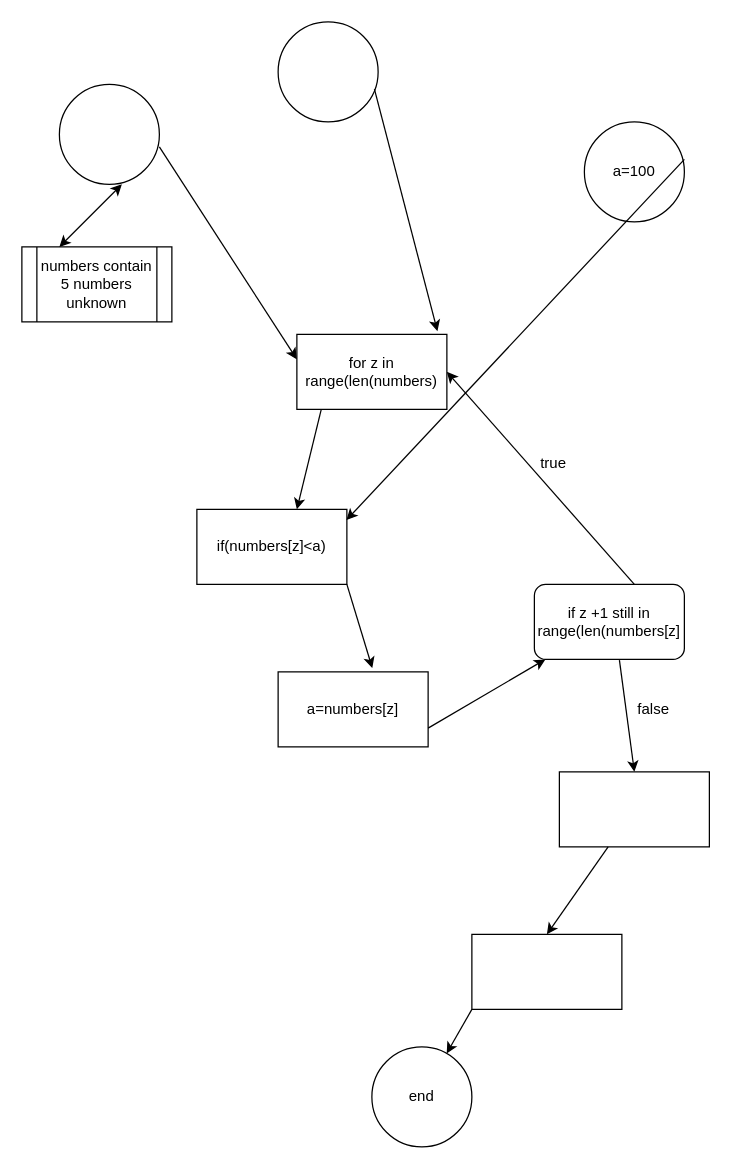
Image size: 731x1169. Some labels were removed from this diagram. Here are the shapes that lost their labels. From the top down, the centre of each, then its label:
the point at 327,71: start
the point at 108,133: list name numbers
the point at 633,809: minval=a
the point at 546,971: print(minval)
